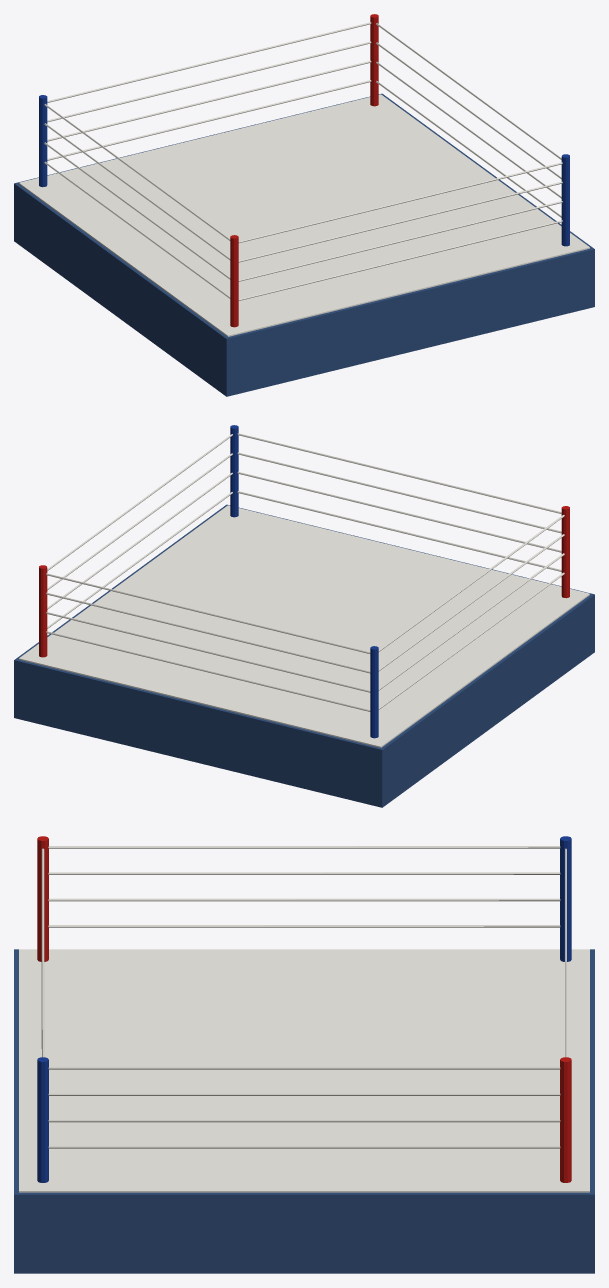
File: sport.gym.boxing_ring.glb
3 views of the same model, one above another, from view 1: azimuth 30°, elevation 25°; view 2: azimuth 150°, elevation 25°; view 3: azimuth 270°, elevation 25° (orthographic). The views are drawn at different scales.
Visible parts, largest first — view 1: main__fabric_white, main__fabric_blue, main__hazard_red, main__plastic_blue; view 2: main__fabric_white, main__fabric_blue, main__plastic_blue, main__hazard_red; view 3: main__fabric_white, main__fabric_blue, main__hazard_red, main__plastic_blue.
Part boxes in pixels (x1,y1,x2,y2): main__fabric_white: (19,22,589,336); main__fabric_blue: (14,93,594,396); main__hazard_red: (230,14,378,327); main__plastic_blue: (39,95,569,246); main__fabric_white: (19,433,589,747); main__fabric_blue: (14,504,594,807); main__plastic_blue: (230,425,378,738); main__hazard_red: (39,506,569,657); main__fabric_white: (19,846,589,1192); main__fabric_blue: (14,949,594,1273); main__hazard_red: (37,836,571,1182); main__plastic_blue: (37,836,571,1182).
Bounding box in the file's own units: 6 × 2.3 × 6.
